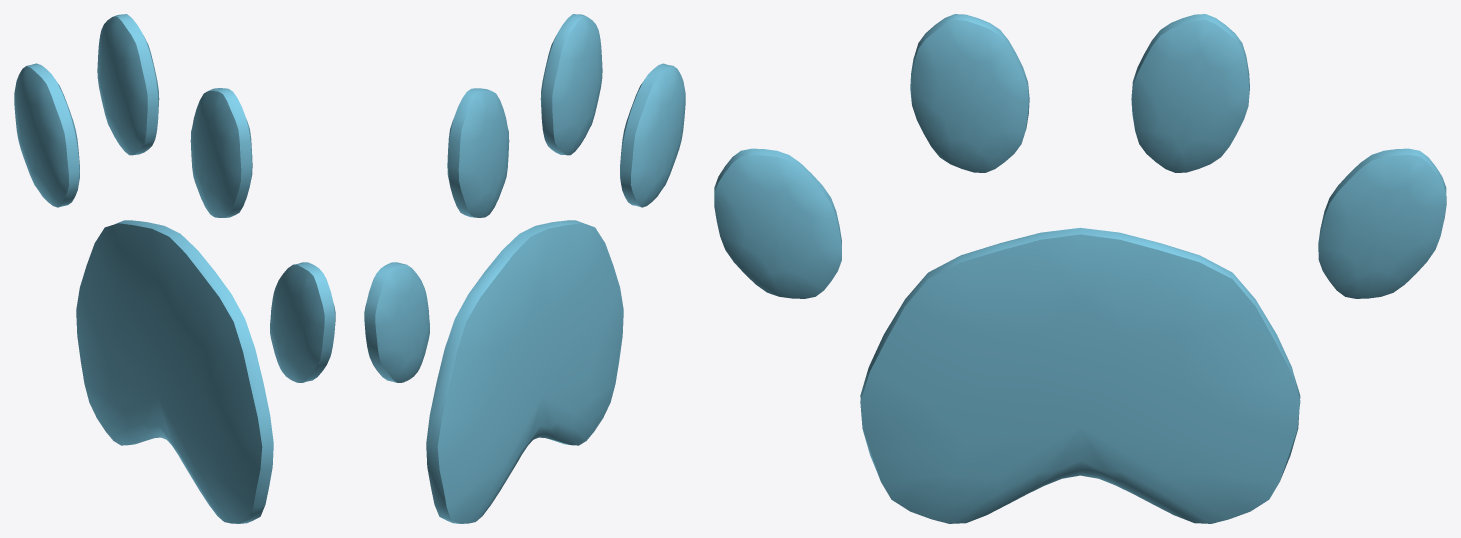
Rendered from plytka_lapka.fbx.
The picture shows the model from 3 angles, left to right: view 1: azimuth 30°, elevation 25°; view 2: azimuth 150°, elevation 25°; view 3: azimuth 270°, elevation 25°; orthographic projection. The views are drawn at different scales.
Parts seen in each view (by area): view 1: plytka_lapka; view 2: plytka_lapka; view 3: plytka_lapka.
Boxes of the visible parts, x1=… form: plytka_lapka: x1=14, y1=14, x2=335, y2=523; plytka_lapka: x1=364, y1=14, x2=685, y2=523; plytka_lapka: x1=714, y1=14, x2=1446, y2=523.
Bounding box in the file's own units: 3.3 × 38.16 × 50.16.
